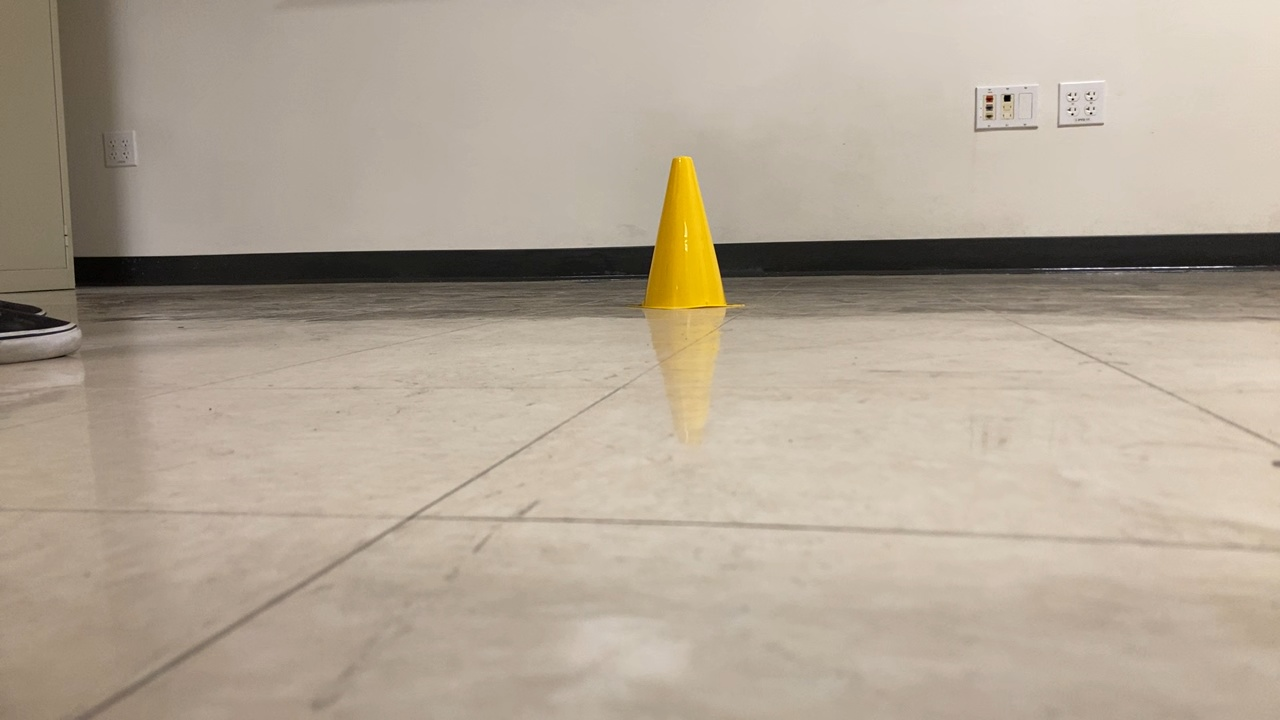yellow_cone: (630, 149, 752, 319)
